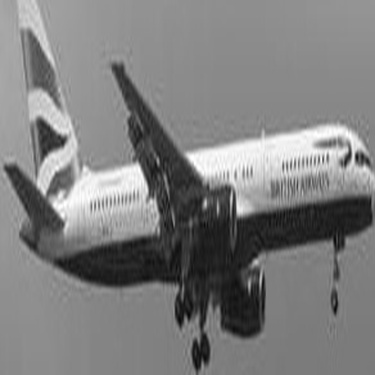airplane: (10, 2, 362, 359)
